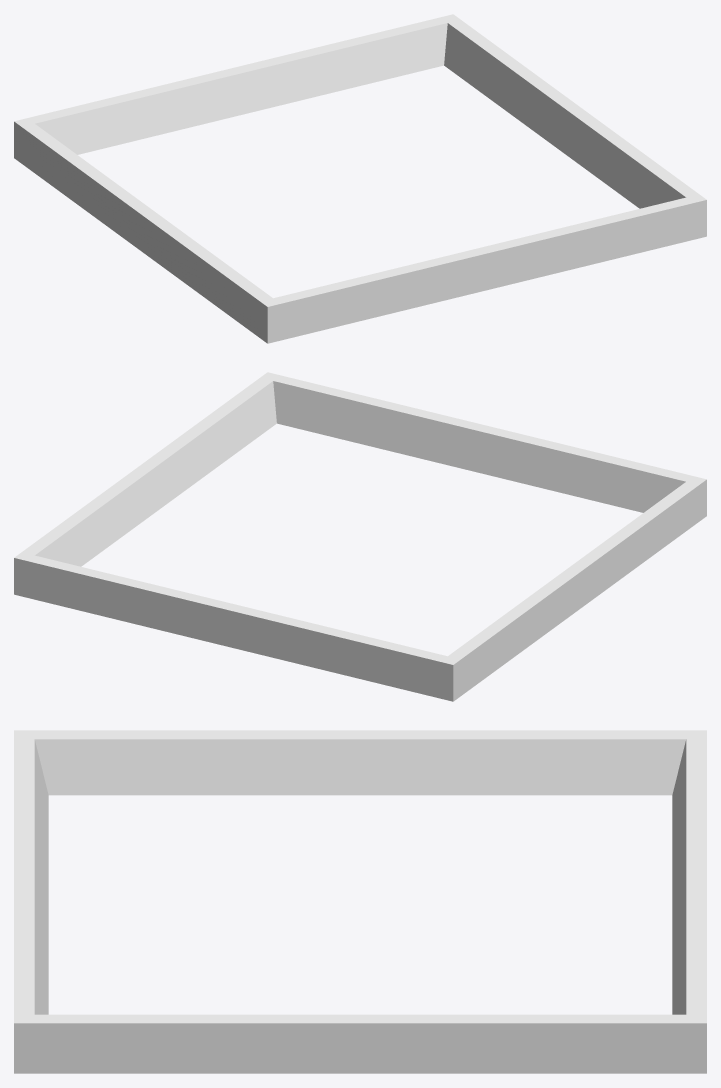
The model's file is kenney-city-roads-road-square-barrier.glb.
3 renders of one model, top to bottom at view 1: azimuth 30°, elevation 25°; view 2: azimuth 150°, elevation 25°; view 3: azimuth 270°, elevation 25°, orthographic. The views are drawn at different scales.
Parts seen in each view (by area): view 1: road-square-barrier; view 2: road-square-barrier; view 3: road-square-barrier.
Boxes of the visible parts, x1=… form: road-square-barrier: x1=14, y1=14, x2=706, y2=343; road-square-barrier: x1=14, y1=372, x2=706, y2=701; road-square-barrier: x1=14, y1=730, x2=706, y2=1073.
Size of the model in its own units: 1 by 0.08 by 1.
Materials: 1 (1 with a texture image).
